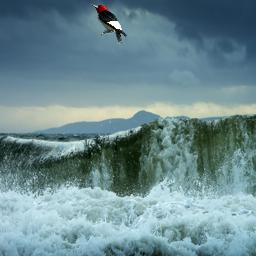Woodpecker: (90, 4, 128, 45)
